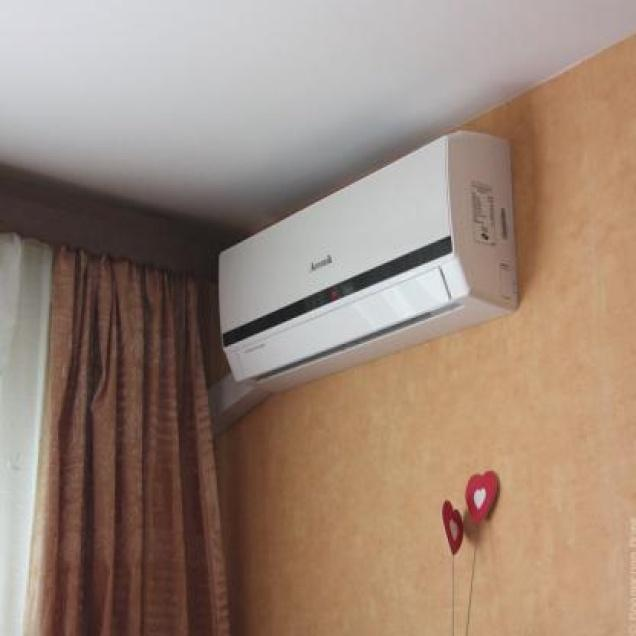AC: (218, 129, 518, 393)
